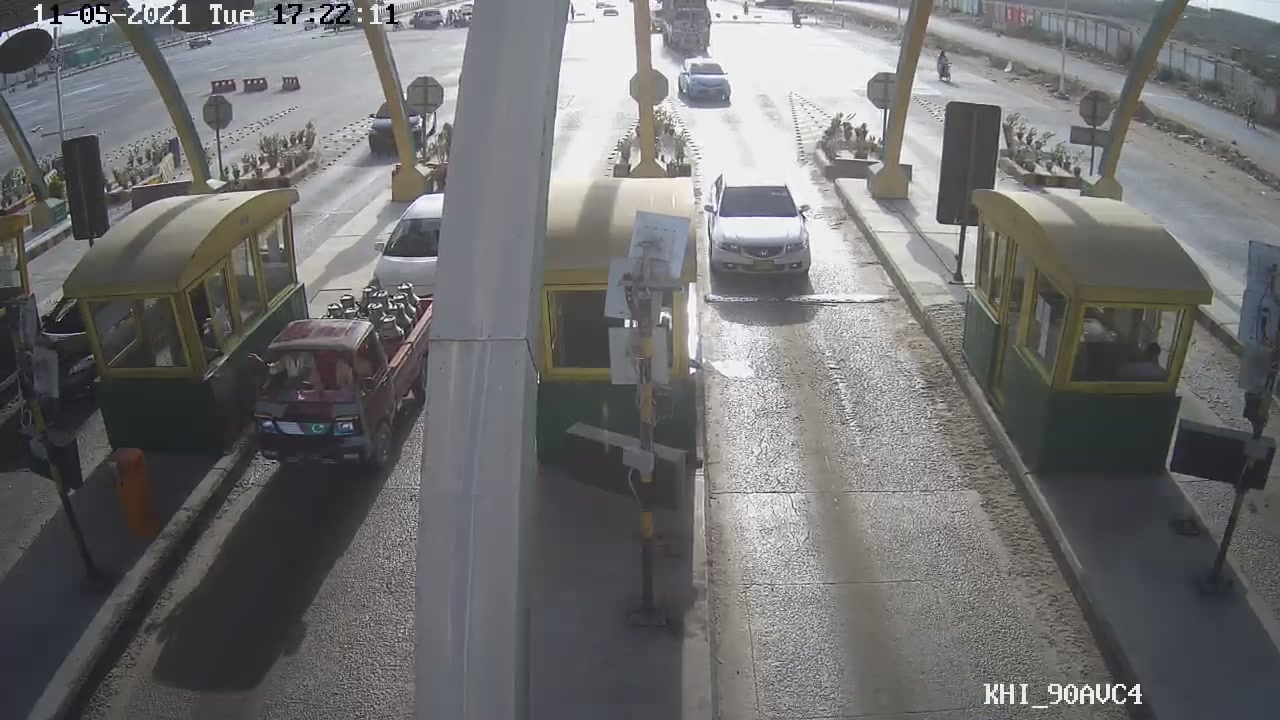F1: (692, 163, 827, 289)
